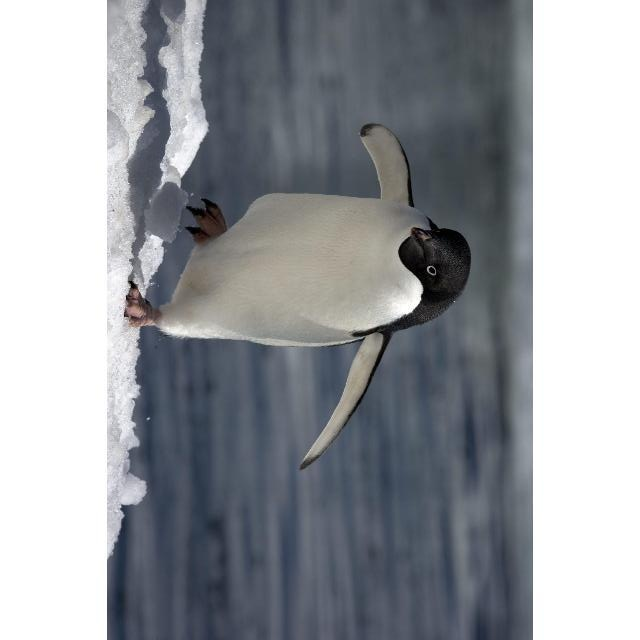penguin: (124, 122, 471, 470)
